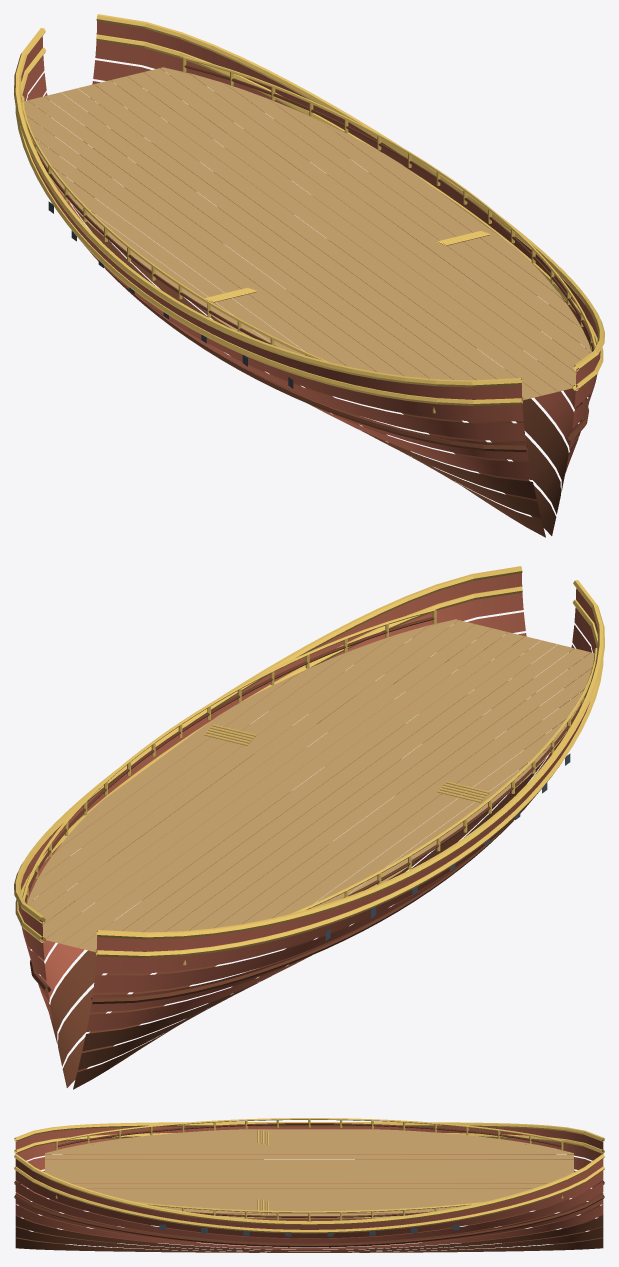
File: queen-mama-chanter-hull.glb
3 views of the same model, one above another, from view 1: azimuth 30°, elevation 25°; view 2: azimuth 150°, elevation 25°; view 3: azimuth 270°, elevation 25° (orthographic). The views are drawn at different scales.
Visible parts, largest first — view 1: hull-role-deck.021, hull-role-hull.021, hull-role-trim.021, hull-role-hullDark.021; view 2: hull-role-deck.021, hull-role-hull.021, hull-role-trim.021, hull-role-hullDark.021; view 3: hull-role-deck.021, hull-role-hull.021, hull-role-hullDark.021, hull-role-trim.021, hull-role-metal.021.
Part boxes in pixels (<box>): hull-role-deck.021: <box>24,67,591,400</box>; hull-role-hull.021: <box>21,21,600,479</box>; hull-role-trim.021: <box>14,14,604,413</box>; hull-role-hullDark.021: <box>29,64,593,537</box>; hull-role-deck.021: <box>27,619,594,952</box>; hull-role-hull.021: <box>18,573,597,1031</box>; hull-role-trim.021: <box>14,566,604,965</box>; hull-role-hullDark.021: <box>25,616,589,1089</box>; hull-role-deck.021: <box>45,1129,573,1218</box>; hull-role-hull.021: <box>15,1126,603,1249</box>; hull-role-hullDark.021: <box>14,1123,604,1252</box>; hull-role-trim.021: <box>14,1118,604,1233</box>; hull-role-metal.021: <box>159,1224,459,1236</box>.
Size of the model in its own units: 43.91 by 20.56 by 109.
